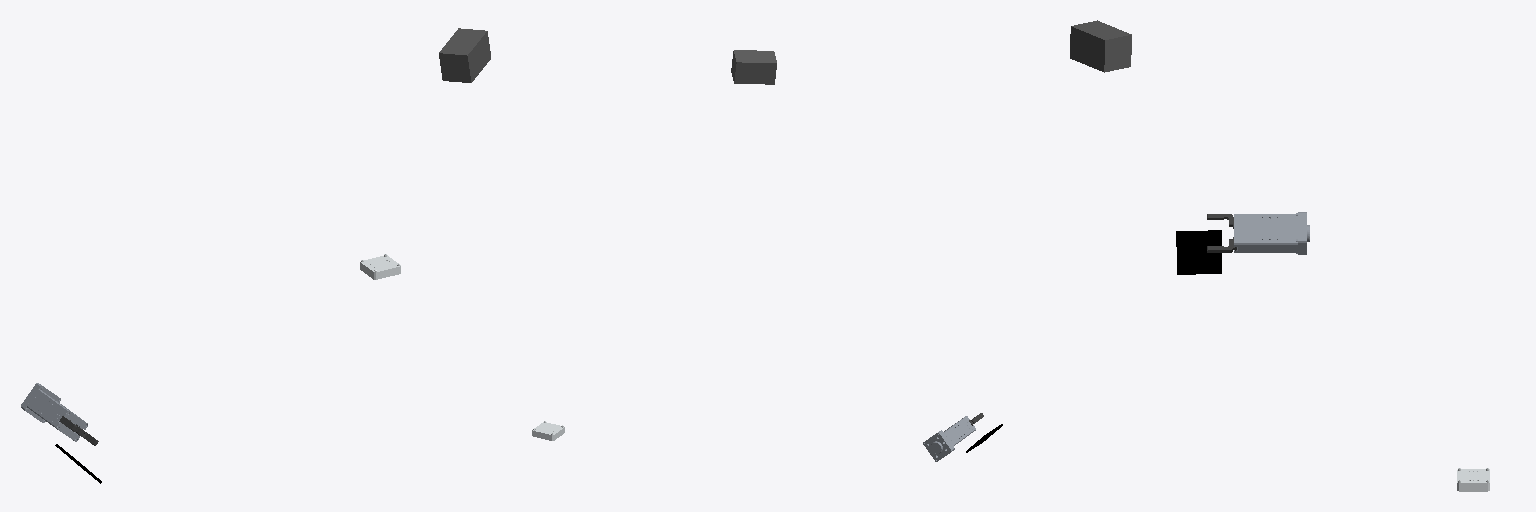
URDF robot description (fairino16_gripper_robot):
<?xml version="1.0" encoding="utf-8"?>
<robot name="fairino16_gripper_robot">

  <link name="world" />
  <joint name="world_to_base" type="fixed">
    <parent link="world" />
    <child link="base_link" />
    <origin xyz="0 0 0" rpy="0 0 0" />
  </joint>

  <link
    name="base_link">
    <inertial>
      <origin
        xyz="-0.00017171 -0.00016075 0.041272"
        rpy="0 0 0" />
      <mass
        value="1.6231" />
      <inertia
        ixx="0.0039513"
        ixy="1.1032E-05"
        ixz="-1.0078E-05"
        iyy="0.0039509"
        iyz="-9.408E-06"
        izz="0.0063729" />
    </inertial>
    <visual>
      <origin
        xyz="0 0 0"
        rpy="0 0 0" />
      <geometry>
        <mesh
          filename="package://fairino16_ctpm2f20_1/meshes/arm/base_link.STL" />
      </geometry>
      <material
        name="">
        <color
          rgba="0.89804 0.91765 0.92941 1" />
      </material>
    </visual>
    <collision>
      <origin
        xyz="0 0 0"
        rpy="0 0 0" />
      <geometry>
        <mesh
          filename="package://fairino16_ctpm2f20_1/meshes/arm/base_link.STL" />
      </geometry>
    </collision>
  </link>
  <link
    name="shoulder_link">
    <inertial>
      <origin
        xyz="2.6949E-07 -0.0077161 0.17504"
        rpy="0 0 0" />
      <mass
        value="3.7152" />
      <inertia
        ixx="0.015538"
        ixy="-6.8007E-08"
        ixz="-8.8038E-08"
        iyy="0.014566"
        iyz="0.00023847"
        izz="0.012006" />
    </inertial>
    <visual>
      <origin
        xyz="0 0 0"
        rpy="0 0 0" />
      <geometry>
        <mesh
          filename="package://fairino16_ctpm2f20_1/meshes/arm/shoulder_link.STL" />
      </geometry>
      <material
        name="">
        <color
          rgba="0.89804 0.91765 0.92941 1" />
      </material>
    </visual>
    <collision>
      <origin
        xyz="0 0 0"
        rpy="0 0 0" />
      <geometry>
        <mesh
          filename="package://fairino16_ctpm2f20_1/meshes/arm/shoulder_link.STL" />
      </geometry>
    </collision>
  </link>
  <joint
    name="j1"
    type="revolute">
    <origin
      xyz="0 0 0"
      rpy="0 0 0" />
    <parent
      link="base_link" />
    <child
      link="shoulder_link" />
    <axis
      xyz="0 0 1" />
    <limit
      lower="-3.0543"
      upper="3.0543"
      effort="150"
      velocity="3.15" />
    <calibration
      rising="0"
      falling="0" />
    <dynamics
      damping="0"
      friction="0" />
    <safety_controller
      soft_upper_limit="3.0543261"
      soft_lower_limit="-3.0543261"
      k_position="100.0"
      k_velocity="40.0" />
  </joint>
  <link
    name="upperarm_link">
    <inertial>
      <origin
        xyz="-0.20845 -1.0388E-06 0.18245"
        rpy="0 0 0" />
      <mass
        value="9.4622" />
      <inertia
        ixx="0.025921"
        ixy="2.097E-07"
        ixz="0.0025747"
        iyy="0.37903"
        iyz="1.3969E-07"
        izz="0.37439" />
    </inertial>
    <visual>
      <origin
        xyz="0 0 0"
        rpy="0 0 0" />
      <geometry>
        <mesh
          filename="package://fairino16_ctpm2f20_1/meshes/arm/upperarm_link.STL" />
      </geometry>
      <material
        name="">
        <color
          rgba="0.89804 0.91765 0.92941 1" />
      </material>
    </visual>
    <collision>
      <origin
        xyz="0 0 0"
        rpy="0 0 0" />
      <geometry>
        <mesh
          filename="package://fairino16_ctpm2f20_1/meshes/arm/upperarm_link.STL" />
      </geometry>
    </collision>
  </link>
  <joint
    name="j2"
    type="revolute">
    <origin
      xyz="0 0 0.18"
      rpy="1.5708 0 0" />
    <parent
      link="shoulder_link" />
    <child
      link="upperarm_link" />
    <axis
      xyz="0 0 1" />
    <limit
      lower="-4.6251"
      upper="1.4835"
      effort="150"
      velocity="3.15" />
    <calibration
      rising="0"
      falling="0" />
    <dynamics
      damping="0"
      friction="0" />
    <safety_controller
      soft_upper_limit="3.0543261"
      soft_lower_limit="-3.0543261"
      k_position="100.0"
      k_velocity="40.0" />
  </joint>
  <link
    name="forearm_link">
    <inertial>
      <origin
        xyz="-0.23441 5.6569E-07 0.048131"
        rpy="0 0 0" />
      <mass
        value="2.9964" />
      <inertia
        ixx="0.003827"
        ixy="-1.6004E-07"
        ixz="-0.0011373"
        iyy="0.054019"
        iyz="-5.5129E-08"
        izz="0.053512" />
    </inertial>
    <visual>
      <origin
        xyz="0 0 0"
        rpy="0 0 0" />
      <geometry>
        <mesh
          filename="package://fairino16_ctpm2f20_1/meshes/arm/forearm_link.STL" />
      </geometry>
      <material
        name="">
        <color
          rgba="0.89804 0.91765 0.92941 1" />
      </material>
    </visual>
    <collision>
      <origin
        xyz="0 0 0"
        rpy="0 0 0" />
      <geometry>
        <mesh
          filename="package://fairino16_ctpm2f20_1/meshes/arm/forearm_link.STL" />
      </geometry>
    </collision>
  </link>
  <joint
    name="j3"
    type="revolute">
    <origin
      xyz="-0.52 0 0"
      rpy="0 0 0" />
    <parent
      link="upperarm_link" />
    <child
      link="forearm_link" />
    <axis
      xyz="0 0 1" />
    <limit
      lower="-2.8274"
      upper="2.8274"
      effort="150"
      velocity="3.15" />
    <calibration
      rising="0"
      falling="0" />
    <dynamics
      damping="0"
      friction="0" />
    <safety_controller
      soft_upper_limit="3.0543261"
      soft_lower_limit="-3.0543261"
      k_position="100.0"
      k_velocity="40.0" />
  </joint>
  <link
    name="wrist1_link">
    <inertial>
      <origin
        xyz="2.4949E-07 -0.002597 0.1549"
        rpy="0 0 0" />
      <mass
        value="2.1573" />
      <inertia
        ixx="0.0033086"
        ixy="1.2835E-08"
        ixz="6.0662E-08"
        iyy="0.0024933"
        iyz="3.9256E-05"
        izz="0.003143" />
    </inertial>
    <visual>
      <origin
        xyz="0 0 0"
        rpy="0 0 0" />
      <geometry>
        <mesh
          filename="package://fairino16_ctpm2f20_1/meshes/arm/wrist1_link.STL" />
      </geometry>
      <material
        name="">
        <color
          rgba="0.89804 0.91765 0.92941 1" />
      </material>
    </visual>
    <collision>
      <origin
        xyz="0 0 0"
        rpy="0 0 0" />
      <geometry>
        <mesh
          filename="package://fairino16_ctpm2f20_1/meshes/arm/wrist1_link.STL" />
      </geometry>
    </collision>
  </link>
  <joint
    name="j4"
    type="revolute">
    <origin
      xyz="-0.4 0 0"
      rpy="0 0 0" />
    <parent
      link="forearm_link" />
    <child
      link="wrist1_link" />
    <axis
      xyz="0 0 1" />
    <limit
      lower="-4.6251"
      upper="1.4835"
      effort="28"
      velocity="3.2" />
    <calibration
      rising="0"
      falling="0" />
    <dynamics
      damping="0"
      friction="0" />
    <safety_controller
      soft_upper_limit="3.0543261"
      soft_lower_limit="-3.0543261"
      k_position="100.0"
      k_velocity="40.0" />
  </joint>
  <link
    name="wrist2_link">
    <inertial>
      <origin
        xyz="-2.4949E-07 0.002597 0.1099"
        rpy="0 0 0" />
      <mass
        value="2.1573" />
      <inertia
        ixx="0.0033086"
        ixy="1.2835E-08"
        ixz="-6.0662E-08"
        iyy="0.0024933"
        iyz="-3.9256E-05"
        izz="0.003143" />
    </inertial>
    <visual>
      <origin
        xyz="0 0 0"
        rpy="0 0 0" />
      <geometry>
        <mesh
          filename="package://fairino16_ctpm2f20_1/meshes/arm/wrist2_link.STL" />
      </geometry>
      <material
        name="">
        <color
          rgba="0.89804 0.91765 0.92941 1" />
      </material>
    </visual>
    <collision>
      <origin
        xyz="0 0 0"
        rpy="0 0 0" />
      <geometry>
        <mesh
          filename="package://fairino16_ctpm2f20_1/meshes/arm/wrist2_link.STL" />
      </geometry>
    </collision>
  </link>
  <joint
    name="j5"
    type="revolute">
    <origin
      xyz="0 0 0.159"
      rpy="1.5708 0 0" />
    <parent
      link="wrist1_link" />
    <child
      link="wrist2_link" />
    <axis
      xyz="0 0 1" />
    <limit
      lower="-3.0543"
      upper="3.0543"
      effort="28"
      velocity="3.2" />
    <calibration
      rising="0"
      falling="0" />
    <dynamics
      damping="0"
      friction="0" />
    <safety_controller
      soft_upper_limit="3.0543261"
      soft_lower_limit="-3.0543261"
      k_position="100.0"
      k_velocity="40.0" />
  </joint>
  <link
    name="wrist3_link">
    <inertial>
      <origin
        xyz="-8.7063E-06 -3.2122E-05 0.082426"
        rpy="0 0 0" />
      <mass
        value="0.20145" />
      <inertia
        ixx="0.0001117"
        ixy="9.1303E-11"
        ixz="6.3367E-09"
        iyy="0.00011182"
        iyz="9.9213E-08"
        izz="0.00016776" />
    </inertial>
    <visual>
      <origin
        xyz="0 0 0"
        rpy="0 0 0" />
      <geometry>
        <mesh
          filename="package://fairino16_ctpm2f20_1/meshes/arm/wrist3_link.STL" />
      </geometry>
      <material
        name="">
        <color
          rgba="0.89804 0.91765 0.92941 1" />
      </material>
    </visual>
    <collision>
      <origin
        xyz="0 0 0"
        rpy="0 0 0" />
      <geometry>
        <mesh
          filename="package://fairino16_ctpm2f20_1/meshes/arm/wrist3_link.STL" />
      </geometry>
    </collision>
  </link>
  <joint
    name="j6"
    type="revolute">
    <origin
      xyz="0 0 0.114"
      rpy="-1.5708 0 0" />
    <parent
      link="wrist2_link" />
    <child
      link="wrist3_link" />
    <axis
      xyz="0 0 1" />
    <limit
      lower="-3.0543"
      upper="3.0543"
      effort="28"
      velocity="3.2" />
    <calibration
      rising="0"
      falling="0" />
    <dynamics
      damping="0"
      friction="0" />
    <safety_controller
      soft_upper_limit="3.0543261"
      soft_lower_limit="-3.0543261"
      k_position="100.0"
      k_velocity="40.0" />
  </joint>

  <joint
    name="gripper_connection_joint"
    type="fixed">
    <origin
      xyz="0 0 0.025"
      rpy="0 0 2.4157" />
    <parent
      link="flange" />
    <child
      link="gripper_base_link" />
  </joint>

  <link
    name="gripper_base_link">
    <inertial>
      <origin
        xyz="-9.70871801089088E-05 4.40138382432753E-09 0.0123998765269589"
        rpy="0 0 0" />
      <mass
        value="0.442727819512088" />
      <inertia
        ixx="0.000129710343290443"
        ixy="7.16836677033689E-07"
        ixz="-1.54188272956697E-07"
        iyy="0.000135031169146183"
        iyz="-1.79194477568909E-11"
        izz="0.000239830661975378" />
    </inertial>
    <visual>
      <origin
        xyz="0 0 0"
        rpy="0 0 0" />
      <geometry>
        <mesh
          filename="package://fairino16_ctpm2f20_1/meshes/visual/base_link.STL" />
      </geometry>
      <material
        name="">
        <color
          rgba="0.615686274509804 0.63921568627451 0.674509803921569 1" />
      </material>
    </visual>
    <collision>
      <origin
        xyz="0 0 0"
        rpy="0 0 0" />
      <geometry>
        <mesh
          filename="package://fairino16_ctpm2f20_1/meshes/visual/base_link.STL" />
      </geometry>
    </collision>
  </link>
  <link
    name="gripper_body_link">
    <inertial>
      <origin
        xyz="-0.00010889 -1.0503E-06 0.060021"
        rpy="0 0 0" />
      <mass
        value="1.0248" />
      <inertia
        ixx="0.0015342"
        ixy="-3.6868E-08"
        ixz="-4.7703E-06"
        iyy="0.0016923"
        iyz="-1.1668E-08"
        izz="0.00064041" />
    </inertial>
    <visual>
      <origin
        xyz="0 0 0"
        rpy="0 0 0" />
      <geometry>
        <mesh
          filename="package://fairino16_ctpm2f20_1/meshes/visual/body_link.STL" />
      </geometry>
      <material
        name="">
        <color
          rgba="0.61569 0.63922 0.67451 1" />
      </material>
    </visual>
    <collision>
      <origin
        xyz="0 0 0"
        rpy="0 0 0" />
      <geometry>
        <mesh
          filename="package://fairino16_ctpm2f20_1/meshes/visual/body_link.STL" />
      </geometry>
    </collision>
  </link>
  <joint
    name="gripper_body_joint"
    type="fixed">
    <origin
      xyz="-2.3898E-05 0 0.021"
      rpy="0 0 0" />
    <parent
      link="gripper_base_link" />
    <child
      link="gripper_body_link" />
    <axis
      xyz="0 0 0" />
  </joint>
  <link
    name="gripper_left_link">
    <inertial>
      <origin
        xyz="3.7925E-09 -0.016983 -0.00154"
        rpy="0 0 0" />
      <mass
        value="0.054821" />
      <inertia
        ixx="8.6451E-06"
        ixy="2.3299E-12"
        ixz="1.261E-12"
        iyy="2.1833E-06"
        iyz="-1.359E-06"
        izz="7.8162E-06" />
    </inertial>
    <visual>
      <origin
        xyz="0 0 0"
        rpy="0 0 0" />
      <geometry>
        <mesh
          filename="package://fairino16_ctpm2f20_1/meshes/visual/left_link.STL" />
      </geometry>
      <material
        name="">
        <color
          rgba="0.29804 0.29804 0.29804 1" />
      </material>
    </visual>
    <collision>
      <origin
        xyz="0 0 0"
        rpy="0 0 0" />
      <geometry>
        <mesh
          filename="package://fairino16_ctpm2f20_1/meshes/visual/left_link.STL" />
      </geometry>
    </collision>
  </link>
  <joint
    name="gripper_left_joint"
    type="prismatic">
    <origin
      xyz="-0.028476 0 0.1457"
      rpy="1.5708 0 -1.5708" />
    <parent
      link="gripper_body_link" />
    <child
      link="gripper_left_link" />
    <axis
      xyz="0 0 1" />
    <limit
      lower="-0.01"
      upper="0"
      effort="30"
      velocity="10" />
  </joint>
  <link
    name="gripper_right_link">
    <inertial>
      <origin
        xyz="3.7925E-09 -0.016983 -0.00154"
        rpy="0 0 0" />
      <mass
        value="0.054821" />
      <inertia
        ixx="8.6451E-06"
        ixy="2.3299E-12"
        ixz="1.261E-12"
        iyy="2.1833E-06"
        iyz="-1.359E-06"
        izz="7.8162E-06" />
    </inertial>
    <visual>
      <origin
        xyz="0 0 0"
        rpy="0 0 0" />
      <geometry>
        <mesh
          filename="package://fairino16_ctpm2f20_1/meshes/visual/right_link.STL" />
      </geometry>
      <material
        name="">
        <color
          rgba="0.29804 0.29804 0.29804 1" />
      </material>
    </visual>
    <collision>
      <origin
        xyz="0 0 0"
        rpy="0 0 0" />
      <geometry>
        <mesh
          filename="package://fairino16_ctpm2f20_1/meshes/visual/right_link.STL" />
      </geometry>
    </collision>
  </link>
  <joint
    name="gripper_right_joint"
    type="prismatic">
    <origin
      xyz="0.028524 0 0.1457"
      rpy="1.5708 0 1.5708" />
    <parent
      link="gripper_body_link" />
    <child
      link="gripper_right_link" />
    <axis
      xyz="0 0 -1" />
    <limit
      lower="0"
      upper="0.01"
      effort="2"
      velocity="10" />
    <mimic
      joint="gripper_left_joint"
      multiplier="-1"
      offset="0" />
  </joint>





  <!-- _____________________________________________-->
  <!-- 相机-->
  <!-- ==================== 地面固定深度相机 ==================== -->
  <link name="camera_link">
      <visual>
        <geometry>
            <box size="0.10 0.06 0.06"/>
        </geometry>
        <material name="camera_grey">
          <color rgba="0.4 0.4 0.4 1.0"/>
        </material>
      </visual>
      <collision>
        <geometry>
            <box size="0.10 0.06 0.06"/>
        </geometry>
      </collision>
      <inertial>
        <mass value="0.1"/>
        <origin xyz="0 0 0"/>
        <inertia ixx="1e-4" iyy="1e-4" izz="1e-4" ixy="0" ixz="0" iyz="0"/>
      </inertial>
    </link>
    
    <joint name="camera_mount_joint" type="fixed">
      <parent link="world"/>
      <child link="camera_link"/>
      <origin xyz="-0.195918 -0.659599 0.768521" rpy="-3.044 0.091 -2.484"/>
    </joint>
  
    <link name="camera_link_optical"/>
    
    <joint name="camera_optical_joint" type="fixed">
      <parent link="camera_link"/>
      <child link="camera_link_optical"/>
      <origin xyz="0 0 0" rpy="-1.5708 0 -1.5708"/> 
    </joint>
    
    <gazebo reference="camera_link">
      <sensor name="depth_camera" type="depth">
        <update_rate>30</update_rate>
        <camera>
          <horizontal_fov>1.047</horizontal_fov>
          <image>
            <width>640</width>
            <height>480</height>
            <format>R8G8B8</format>
          </image>
          <clip>
            <near>0.05</near>
            <far>5.0</far>
          </clip>
        </camera>
        <always_on>true</always_on>
        <visualize>true</visualize>
        
        <plugin name="camera_controller" filename="libgazebo_ros_camera.so">
          <ros2>
            <namespace>/camera</namespace>
          </ros2>
          <camera_name>depth_camera</camera_name>
          <frame_name>camera_link_optical</frame_name>
          <depth_camera>true</depth_camera>
        </plugin>
      </sensor>
    </gazebo>

    <link name="gripper_center_tcp" />

    <joint name="flange_to_tcp" type="fixed">
        <parent link="flange"/>
        <child link="gripper_center_tcp"/>
        
        <origin xyz="-0.0001056 -0.0002450 0.2033989" rpy="-3.14 0 -2.0944"/>
    </joint>

    <link name="flange"/>

    <joint name="wrist3_to_flange" type="fixed">
      <parent link="wrist3_link"/>
      <child link="flange"/>
      <origin xyz="0 0 0.106" rpy="0 0 0"/> 
    </joint>
  <!-- ==================== 标定版 ==================== -->
   <link name="checkerboard_link">
    <visual>
      <geometry>
        <box size="0.08 0.08 0.005"/>
      </geometry>
      <material name="black">
        <color rgba="0 0 0 1"/>
      </material>
    </visual>
  </link>

  <joint name="gripper_to_checkerboard_joint" type="fixed">
    <parent link="flange"/>
    <child link="checkerboard_link"/>
    
    <origin xyz="-0.02214 -0.04770 0.22072" rpy="-2.80977 1.53570 1.09409"/> 
  </joint>
  </robot>

--- Facts derived from the render (not from the file) ---
3 views of the same robot in one strip: view 1: azimuth 30°, elevation 25°; view 2: azimuth 150°, elevation 25°; view 3: azimuth 270°, elevation 25° (orthographic).
Model fairino16_gripper_robot with 17 links and 16 joints (6 revolute, 2 prismatic, 8 fixed), rooted at world, posed all joints at 0.
Links seen in each view (by area): view 1: camera_link, gripper_body_link, base_link; view 2: camera_link, gripper_base_link; view 3: camera_link, gripper_body_link, checkerboard_link, base_link.
Link boxes in pixels (<box>): camera_link: <box>439,28,490,82</box>; gripper_body_link: <box>27,389,87,441</box>; base_link: <box>360,254,400,279</box>; camera_link: <box>731,50,776,84</box>; gripper_base_link: <box>923,430,954,461</box>; camera_link: <box>1070,20,1131,72</box>; gripper_body_link: <box>1234,214,1297,252</box>; checkerboard_link: <box>1176,230,1221,274</box>; base_link: <box>1457,468,1489,491</box>.
Bounding box of the posed robot: 1 × 0.7435 × 0.8193 m (x, y, z).
Meshes: 11 distinct files referenced, 5 mesh visuals loaded (4 binary STL); not drawn: 6 (reference not matched to a file when rendering).
